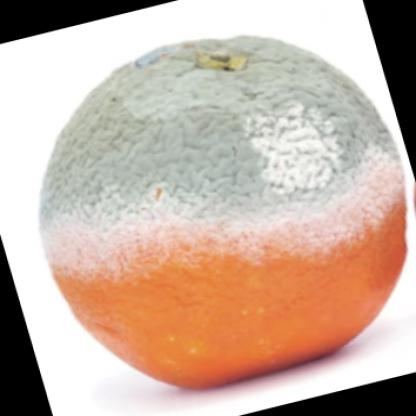rotten_orange: (30, 22, 409, 390)
